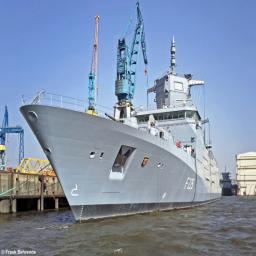Fragata: (20, 28, 229, 227)
